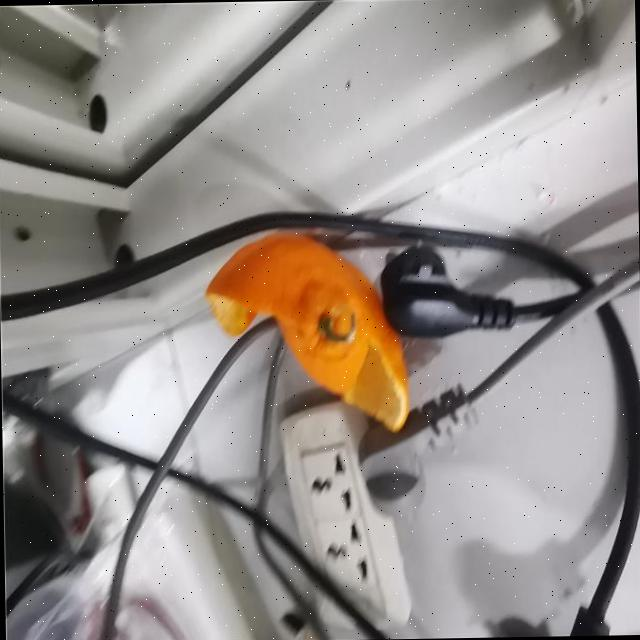orange-peel: (201, 226, 411, 436)
